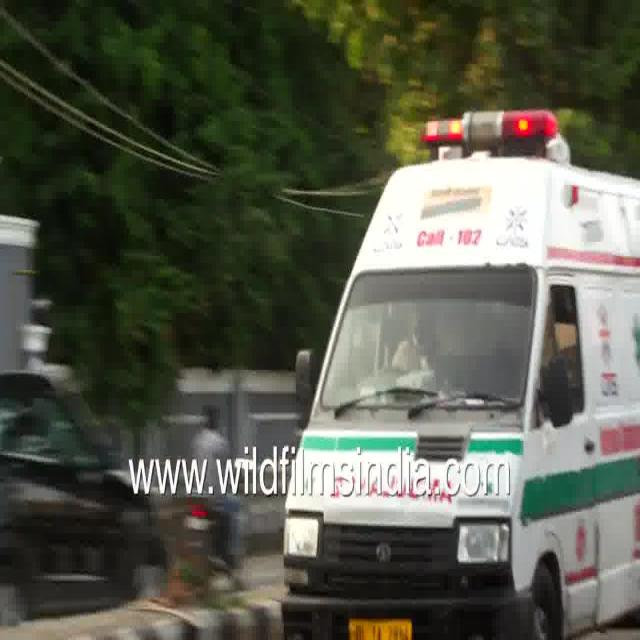ambulance: (302, 104, 640, 451)
